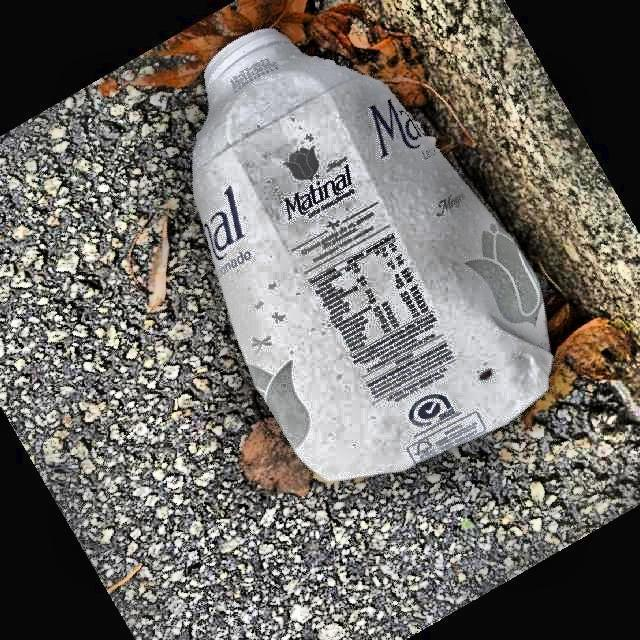plastic: (194, 29, 551, 481)
